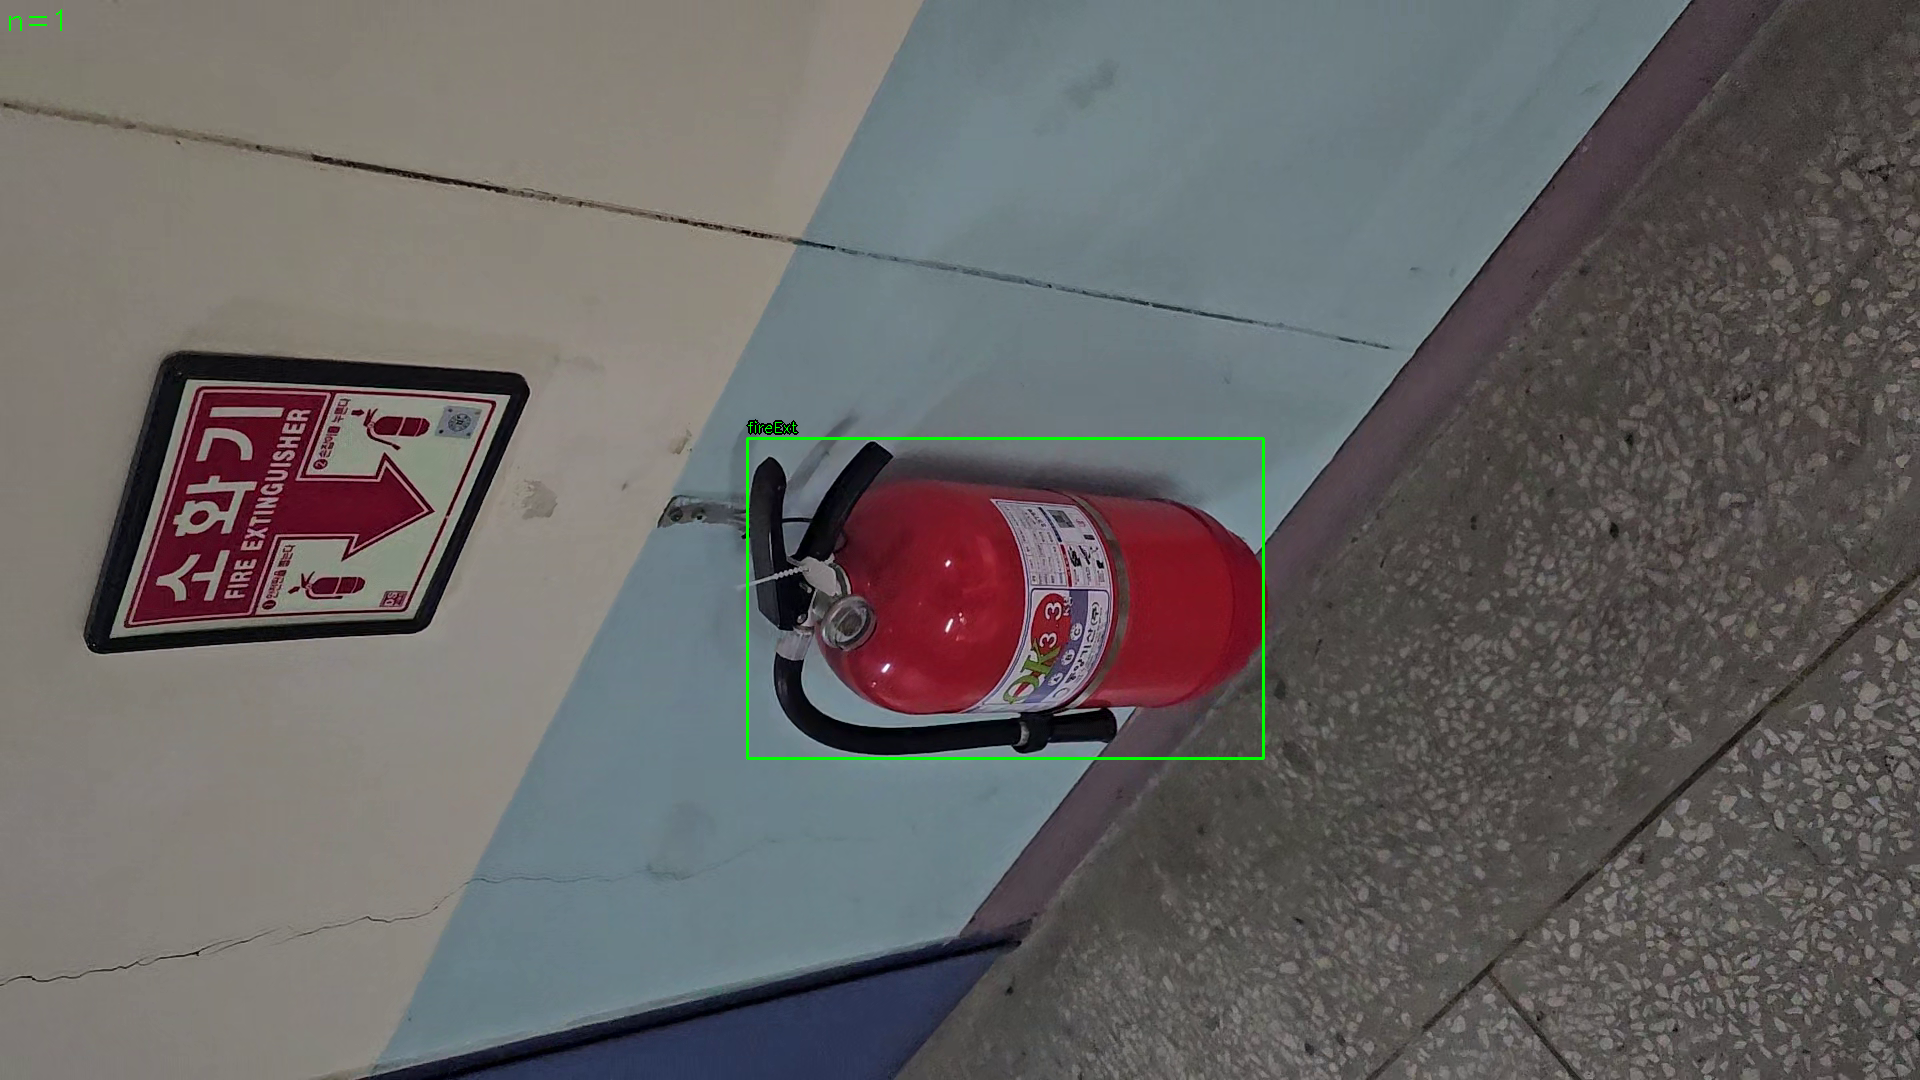lane: (746, 438, 1265, 760)
